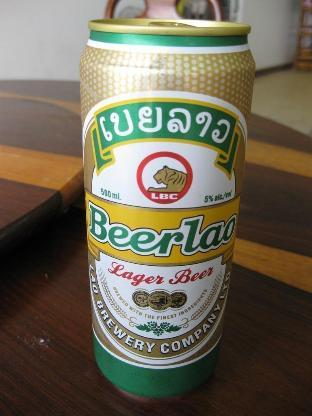Can: (74, 14, 256, 400)
